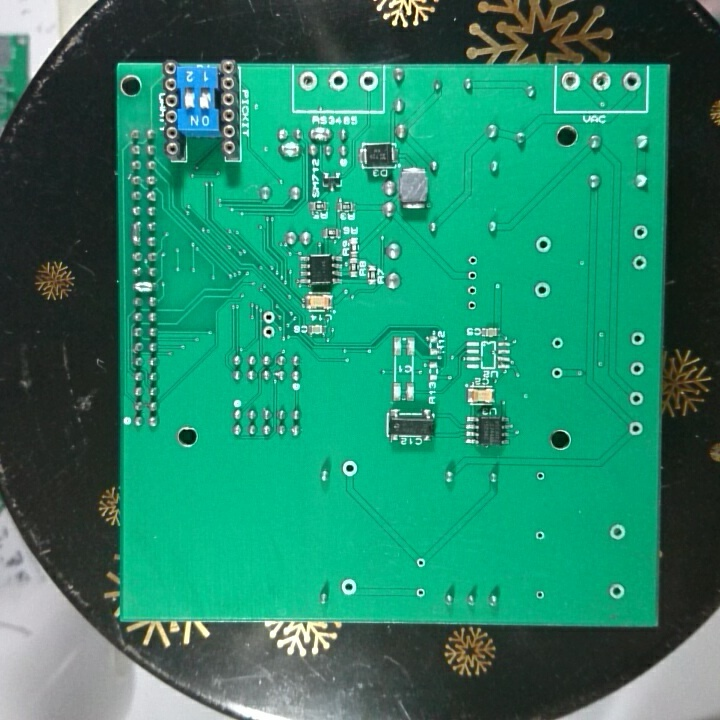F: (357, 69, 381, 95), (297, 70, 322, 93), (591, 69, 614, 93), (622, 68, 642, 95), (326, 69, 349, 92), (560, 70, 582, 92), (607, 580, 628, 602), (340, 458, 361, 480), (531, 280, 554, 300), (607, 522, 628, 542), (339, 577, 359, 598), (631, 220, 649, 243), (628, 327, 646, 349), (628, 358, 647, 378), (626, 389, 645, 409), (626, 419, 645, 439), (630, 251, 648, 272), (534, 235, 554, 253), (259, 323, 277, 342), (548, 363, 565, 383), (550, 334, 566, 353), (260, 309, 277, 326), (412, 585, 429, 600), (464, 269, 482, 283), (533, 588, 548, 603), (465, 252, 480, 267), (531, 528, 546, 542), (534, 469, 548, 483), (465, 283, 479, 297), (414, 556, 427, 571), (465, 298, 478, 312)
P: (306, 124, 334, 142), (278, 139, 302, 160), (128, 218, 144, 249), (133, 280, 160, 296)
